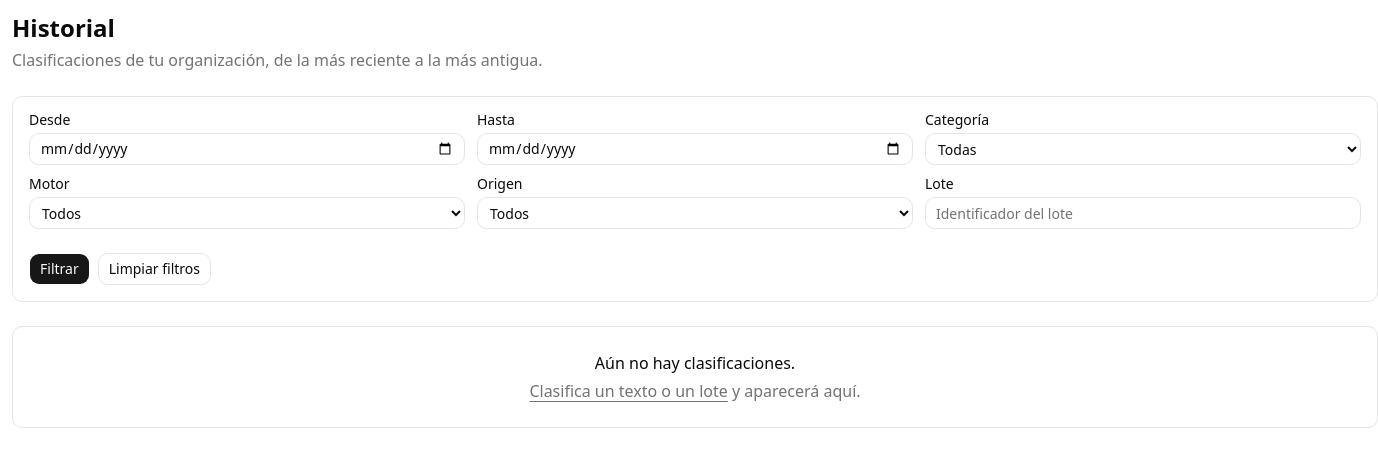
Scenario: Historial › no envía fechas invertidas
The width and height of the screenshot is (1378, 465).
Expected: the text "Aún no hay clasificaciones." is shown, 595,352 -> 795,374
Type "2026-10-12" into the date field labelled "Desde". click: (247, 149)
box: 29,133 -> 465,165
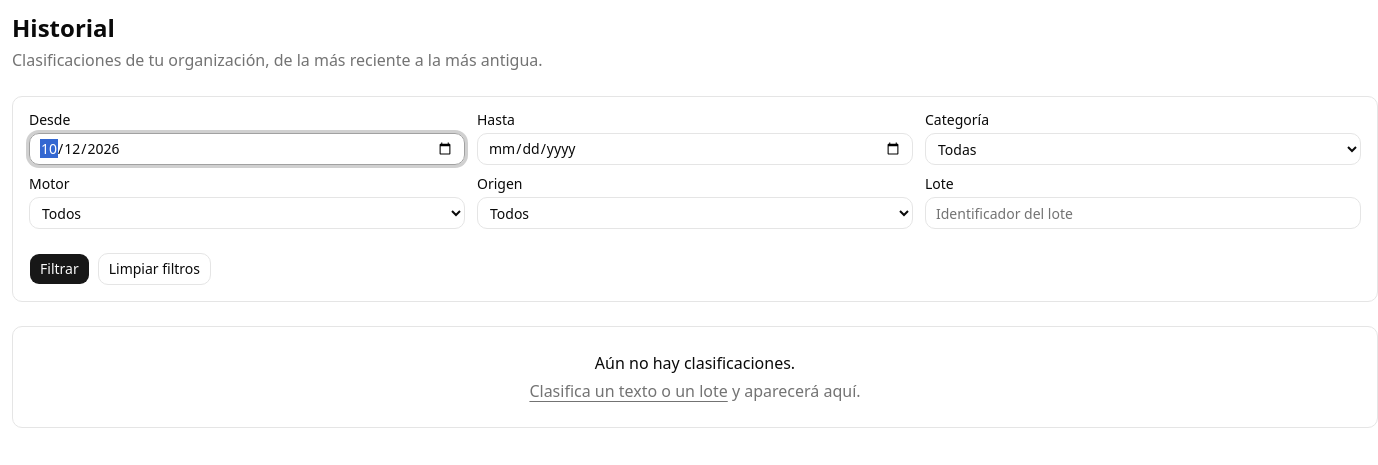
Type "2026-10-01" into the date field labelled "Hasta". click: (695, 149)
box: 477,133 -> 913,165
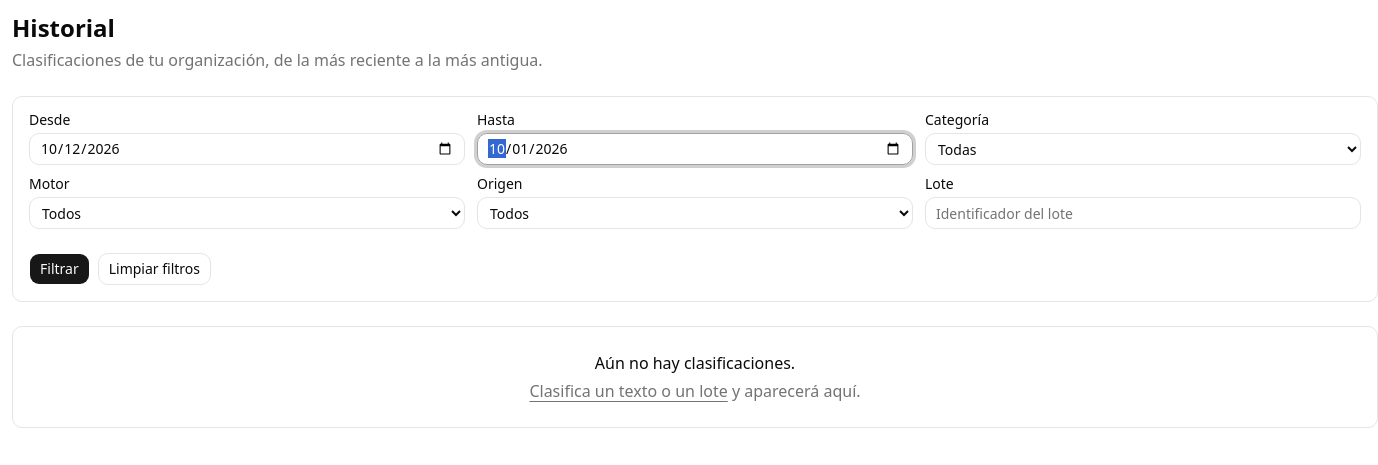
Click the button "Filtrar". click: (59, 269)
box: 29,253 -> 90,285
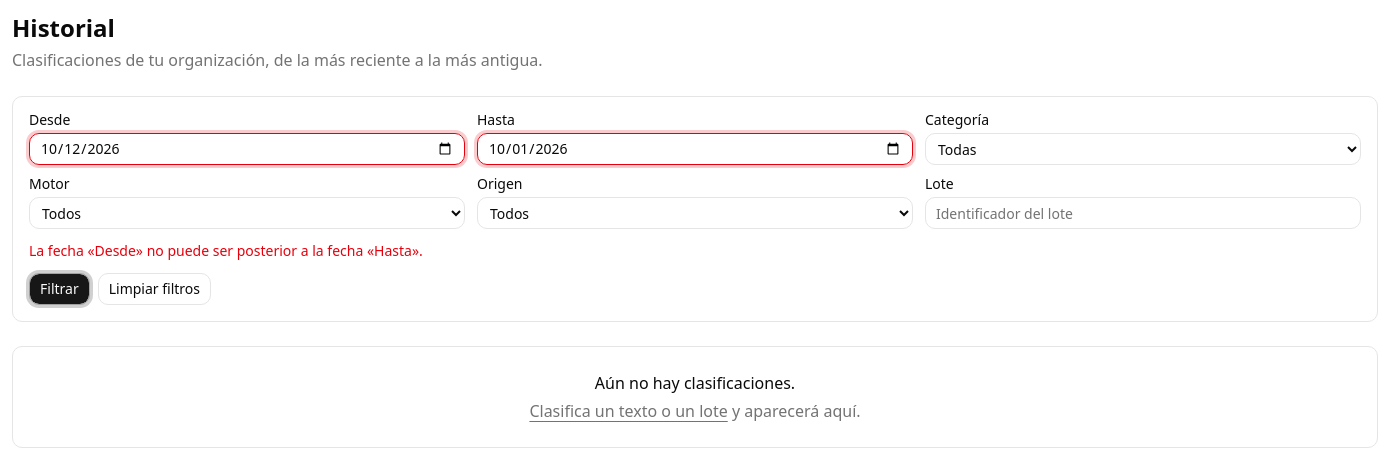
Expected: the text "La fecha «Desde» no puede ser posterior a la fecha «Hasta»." is shown, 29,241 -> 423,260
